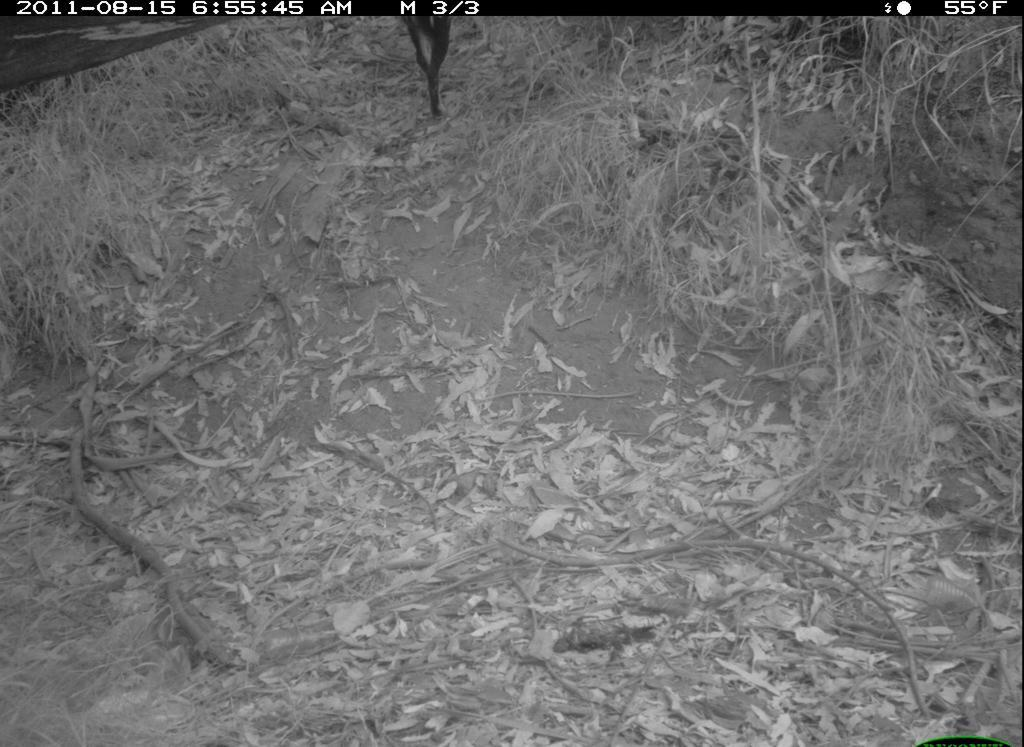dog: (391, 15, 469, 121)
